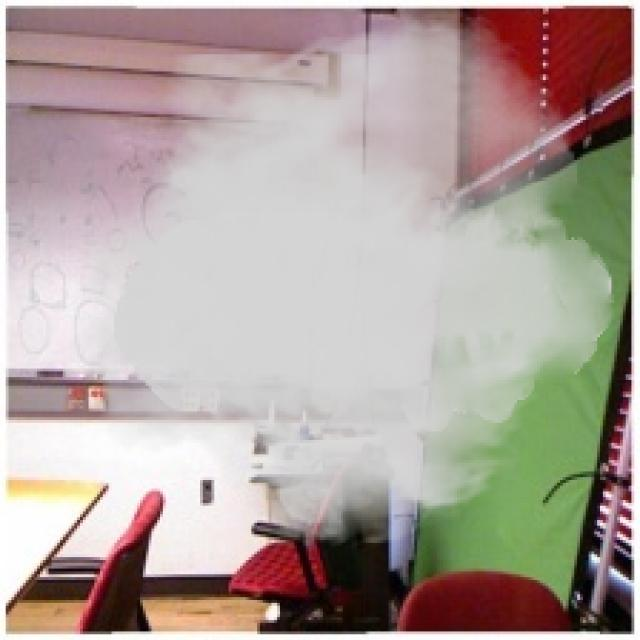smoke: (57, 6, 614, 551)
